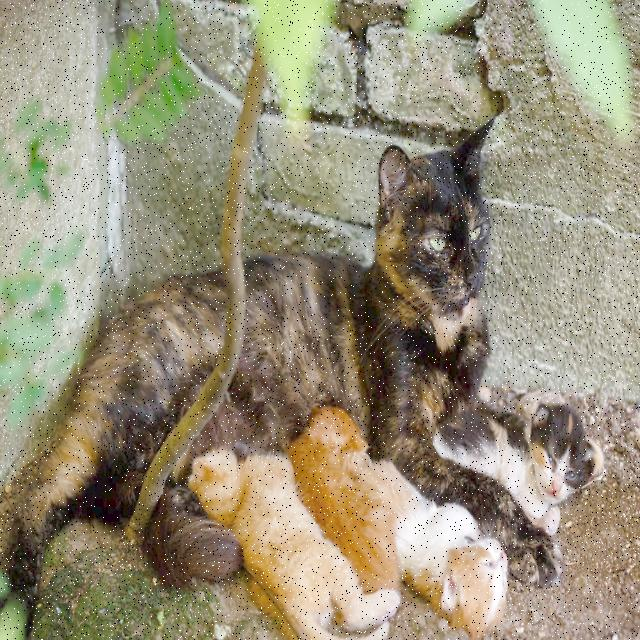cat: (144, 124, 564, 587), (6, 272, 225, 608), (289, 407, 508, 639), (189, 448, 399, 638), (434, 392, 604, 534)
